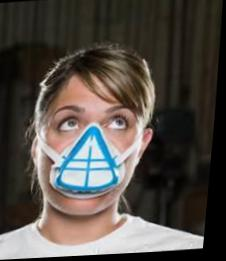WRONG: (40, 93, 150, 221)
